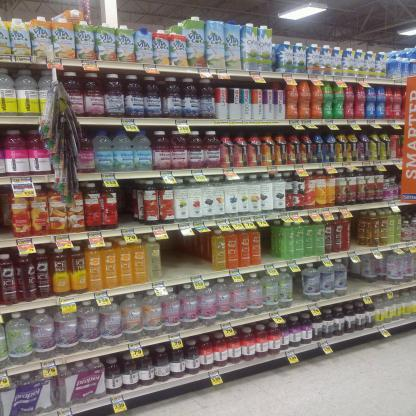Void: (163, 240, 207, 272), (351, 265, 368, 293), (119, 189, 132, 224), (3, 200, 13, 236), (264, 230, 272, 258), (351, 216, 356, 250), (406, 207, 414, 216)
